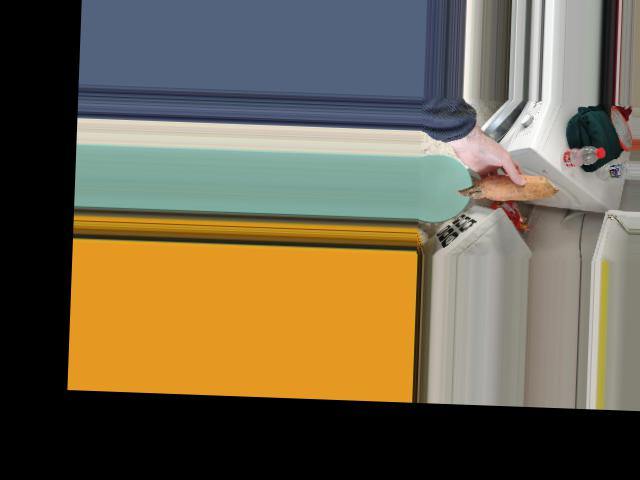sweet_potato: (459, 165, 546, 201)
